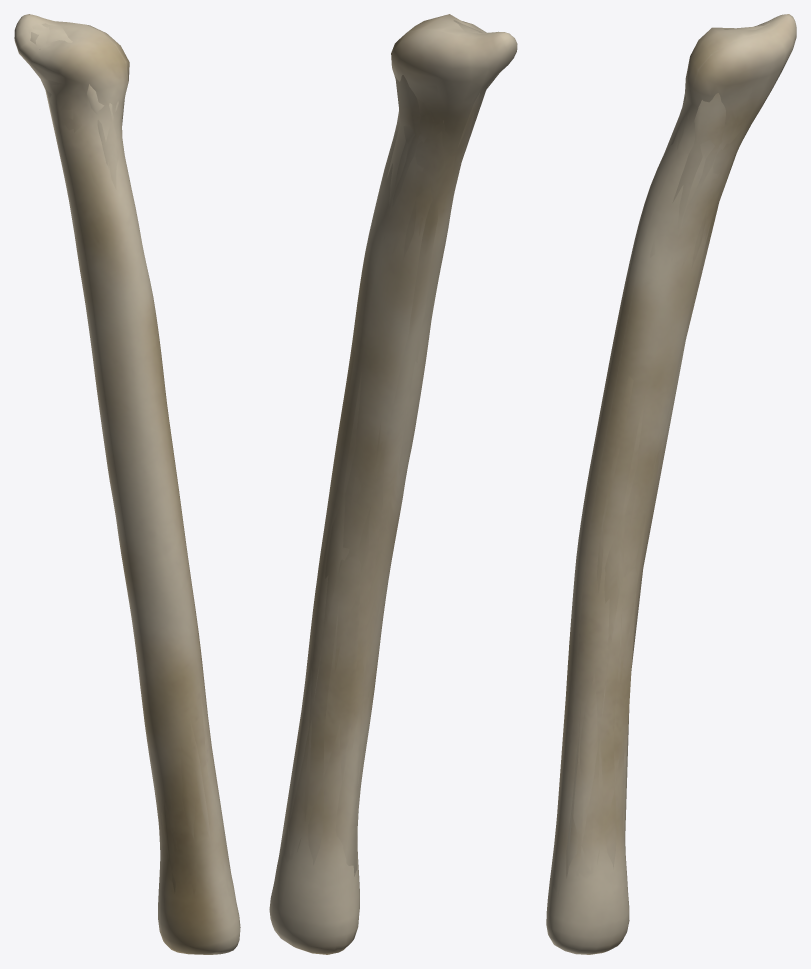
The model's file is L metatarsi quartum.fbx.
3 views of the same model, side by side, from view 1: azimuth 30°, elevation 25°; view 2: azimuth 210°, elevation 25°; view 3: azimuth 270°, elevation 25° (orthographic). The views are drawn at different scales.
Parts seen in each view (by area): view 1: L metatarsi quartum high, L metatarsi quartum low, L metatarsi quartum; view 2: L metatarsi quartum high, L metatarsi quartum low, L metatarsi quartum; view 3: L metatarsi quartum high, L metatarsi quartum low, L metatarsi quartum.
Part boxes in pixels (x1,y1,x2,y2): L metatarsi quartum high: (14, 14, 240, 954); L metatarsi quartum low: (30, 23, 231, 895); L metatarsi quartum: (27, 21, 233, 896); L metatarsi quartum high: (269, 14, 517, 954); L metatarsi quartum low: (279, 20, 499, 876); L metatarsi quartum: (280, 29, 495, 862); L metatarsi quartum high: (546, 14, 796, 954); L metatarsi quartum low: (557, 21, 769, 878); L metatarsi quartum: (552, 19, 772, 897).
Size of the model in its own units: 2.81 by 19.39 by 4.91.
